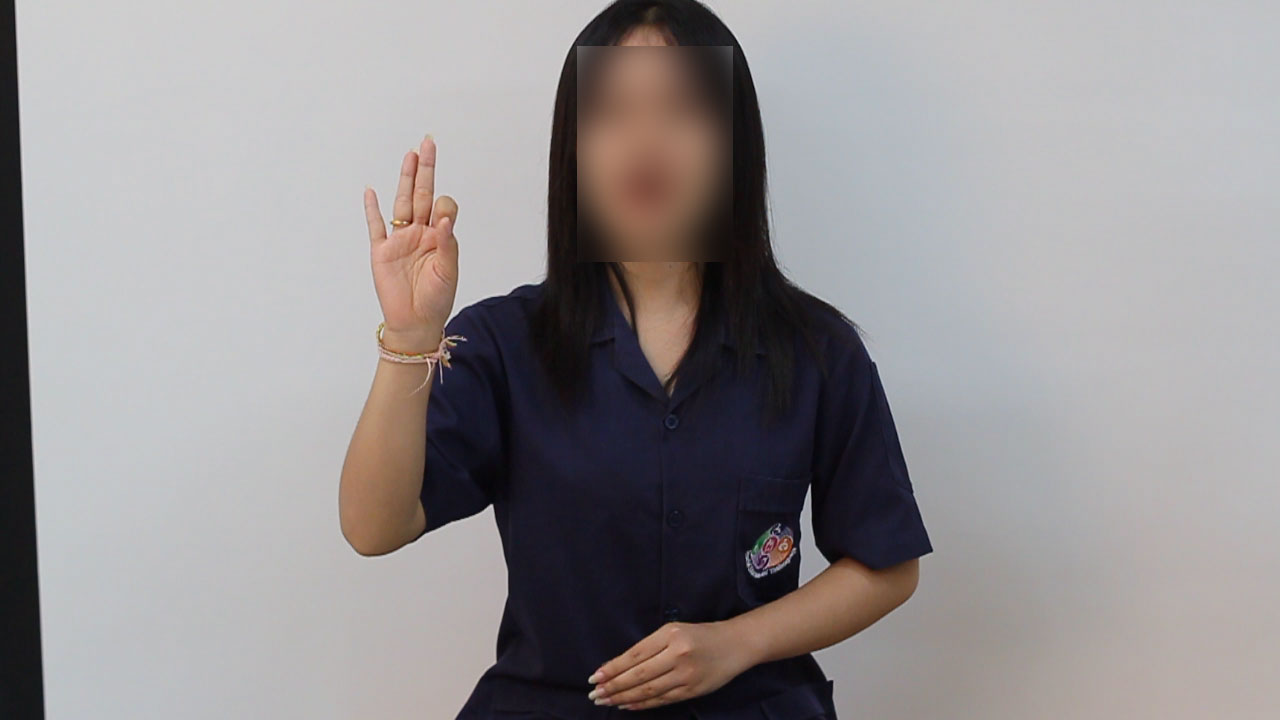for: (360, 121, 464, 360)
